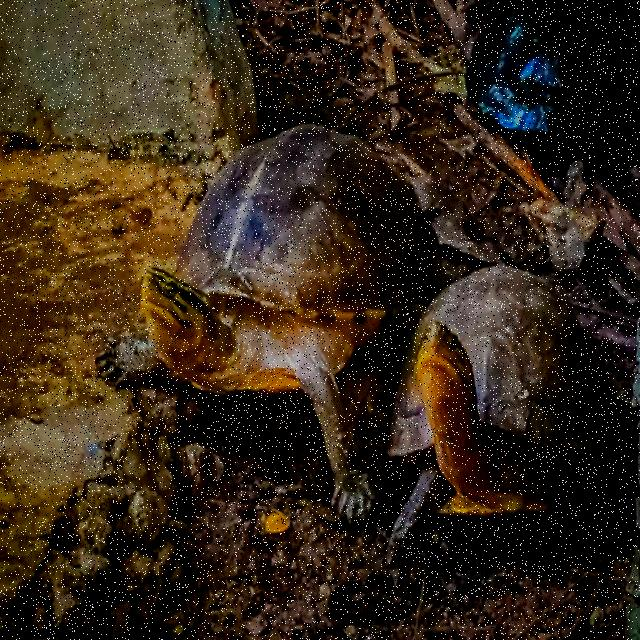tortoise: (102, 110, 384, 520)
